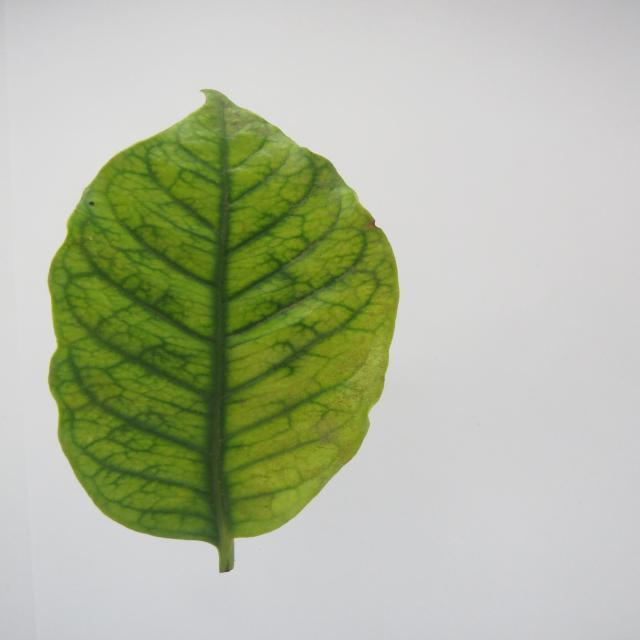DeficienciaNutricional-Manganeso: (50, 90, 398, 572)
